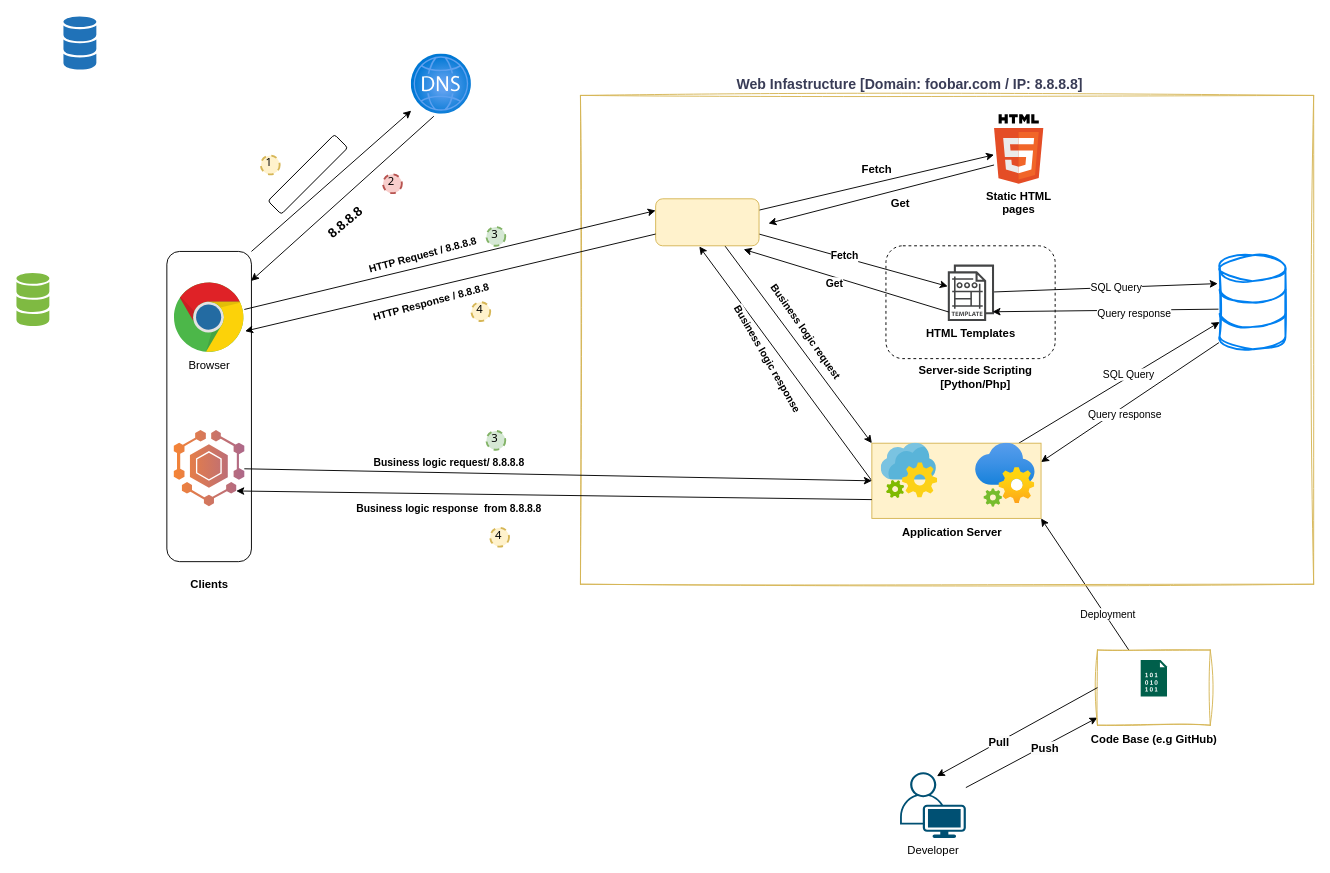
Image size: 1330x873. Some labels were removed from this diagram. The shapes that lost their labels are listed below. From the top down, each one's box as (x1, y1, x2, y2) in pixels, then its label:
(267, 133, 348, 215): www.foobar.com
(655, 198, 759, 246): Nginx Web server
(1218, 254, 1286, 350): Mysql Database
(173, 429, 244, 506): Other Apps & Services
(1140, 659, 1167, 696): Application file(s)
